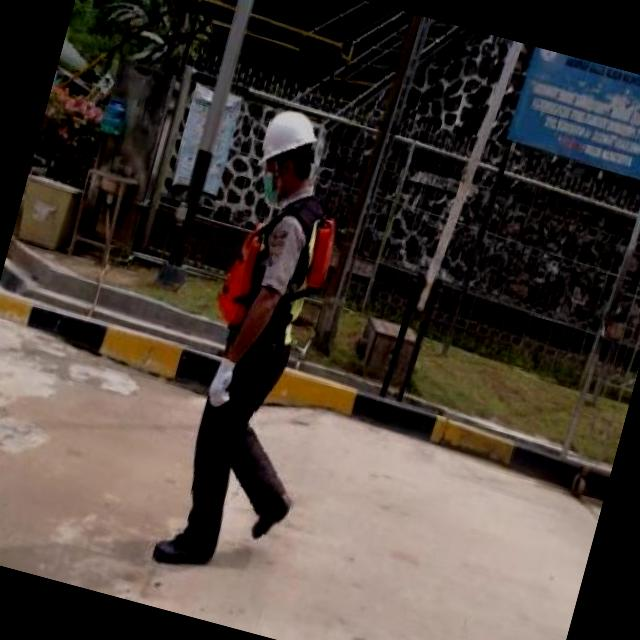boots: (148, 517, 222, 577), (245, 482, 298, 554)
gloves: (182, 344, 248, 428)
helmet: (252, 99, 324, 178)
vest: (200, 185, 345, 366)
